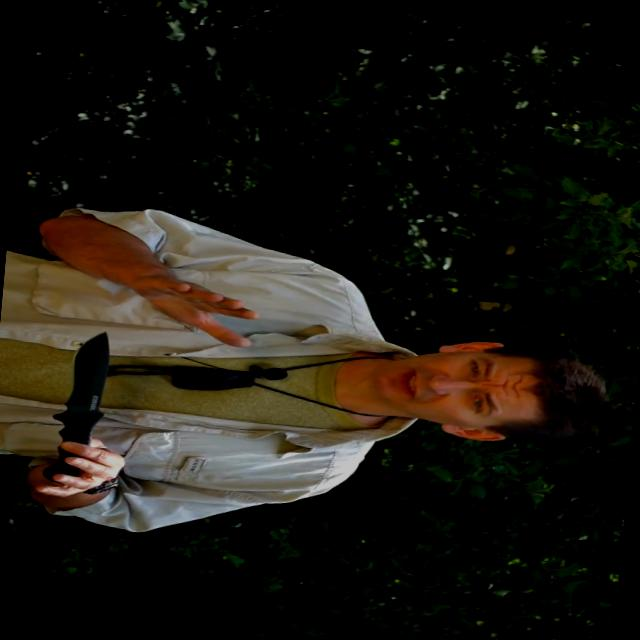knife: (28, 324, 128, 504)
